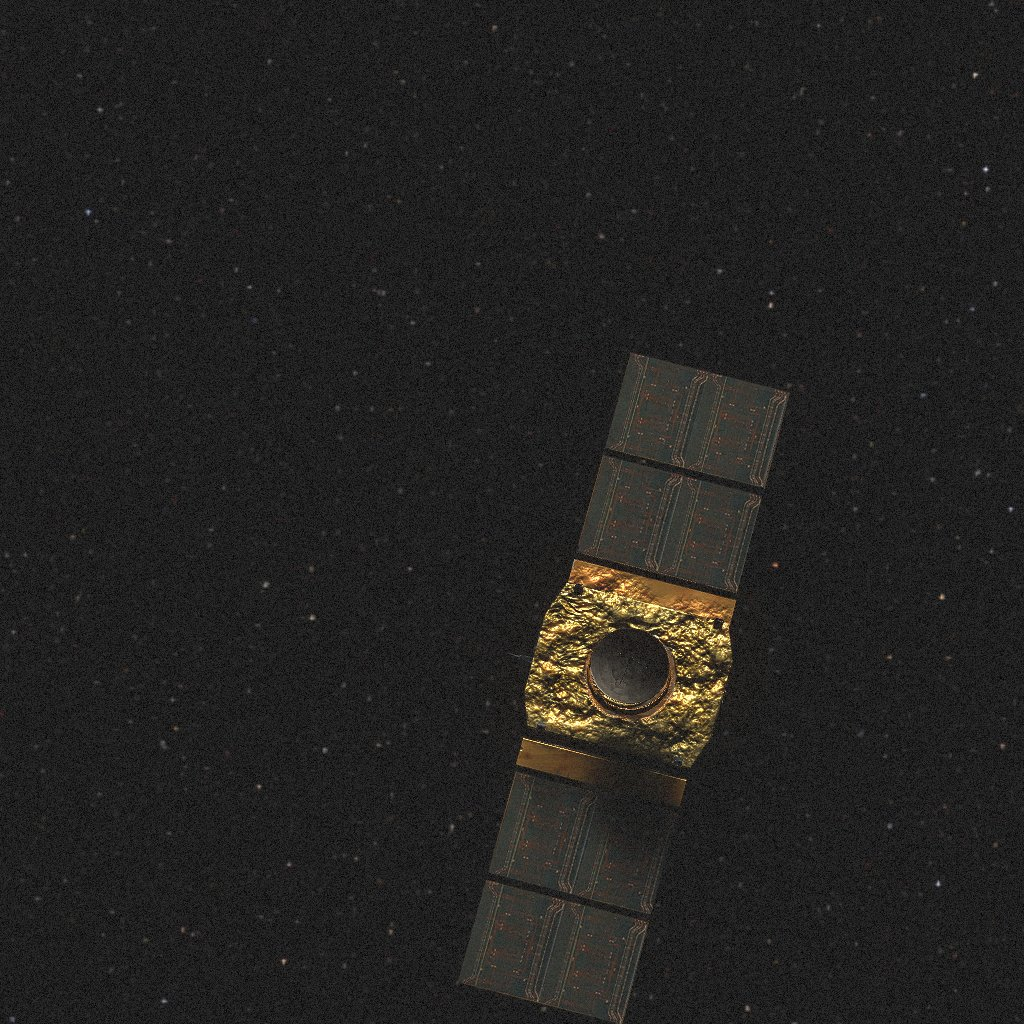soho: (458, 353, 790, 1024)
